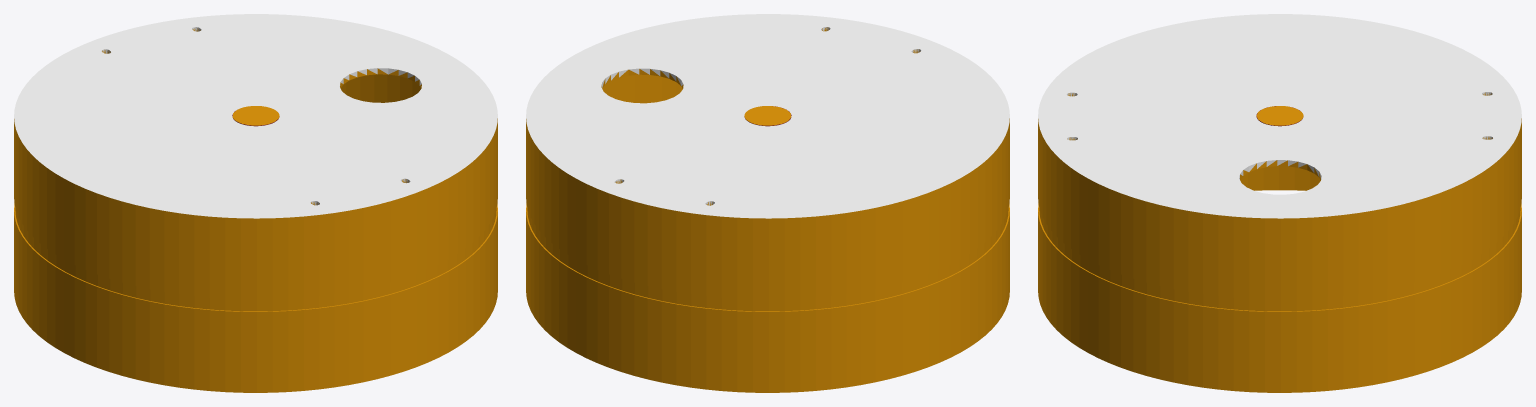
The model's file is BOTTOM_mule.dae.
The picture shows the model from 3 angles, left to right: view 1: azimuth 30°, elevation 25°; view 2: azimuth 150°, elevation 25°; view 3: azimuth 270°, elevation 25°; orthographic projection.
Parts seen in each view (by area): view 1: BOTTOM.002; view 2: BOTTOM.002; view 3: BOTTOM.002.
Part boxes in pixels (x1,y1,x2,y2): BOTTOM.002: (14,14,497,392); BOTTOM.002: (526,14,1009,392); BOTTOM.002: (1038,14,1521,392).
Size of the model in its own units: 0.352 by 0.352 by 0.1404.
